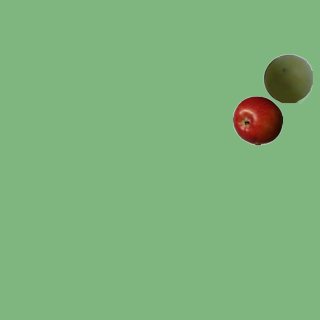Apple Braeburn: (232, 95, 282, 145)
Grape White 4: (262, 53, 312, 103)
